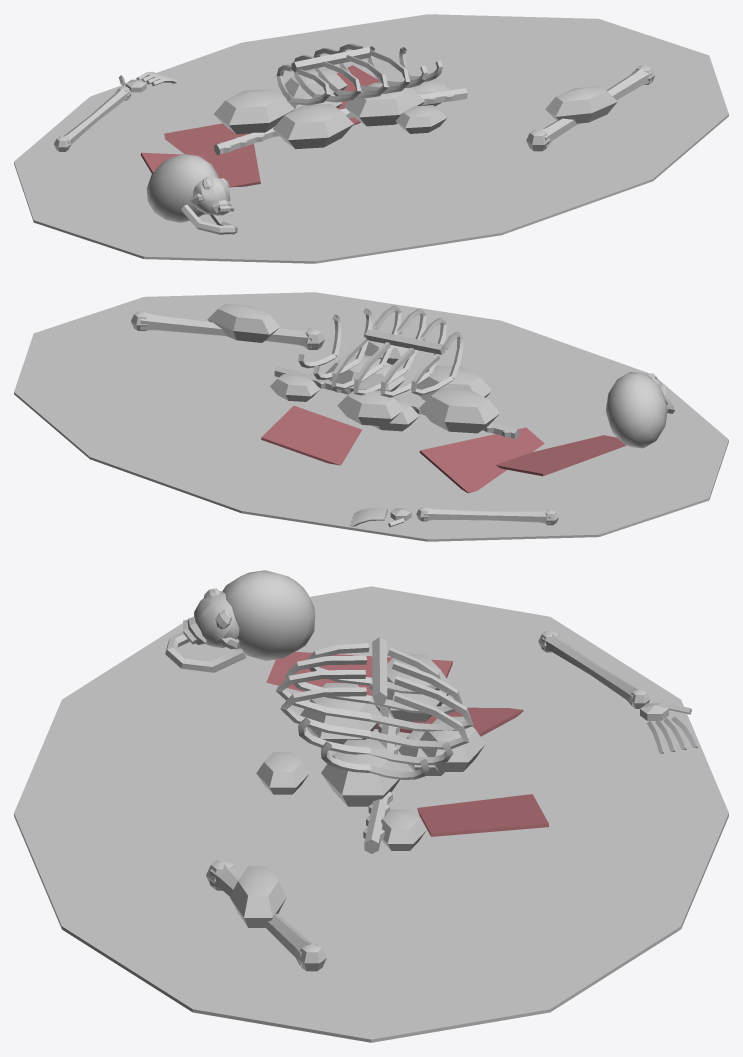
Rendered from clutter_carcass.glb.
The picture shows the model from 3 angles, top to bottom: view 1: azimuth 30°, elevation 25°; view 2: azimuth 150°, elevation 25°; view 3: azimuth 270°, elevation 25°; orthographic projection. The views are drawn at different scales.
Visible parts, largest first — view 1: clutter_carcass; view 2: clutter_carcass; view 3: clutter_carcass.
Boxes of the visible parts, left/top/right/bottom form: clutter_carcass: left=14, top=14, right=728, bottom=263; clutter_carcass: left=14, top=292, right=728, bottom=541; clutter_carcass: left=14, top=570, right=728, bottom=1042.
Size of the model in its own units: 1.8 by 0.2659 by 1.2.
